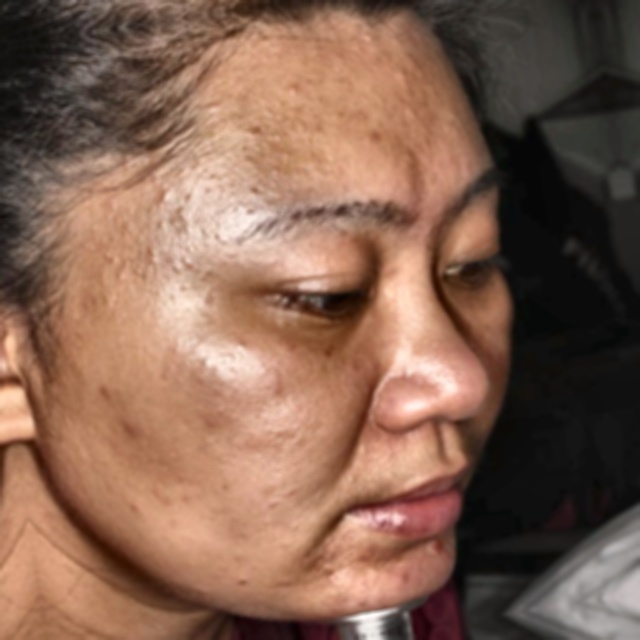comedone: (113, 413, 152, 440), (423, 531, 452, 562), (86, 377, 126, 397), (354, 542, 381, 566), (393, 565, 412, 583)
